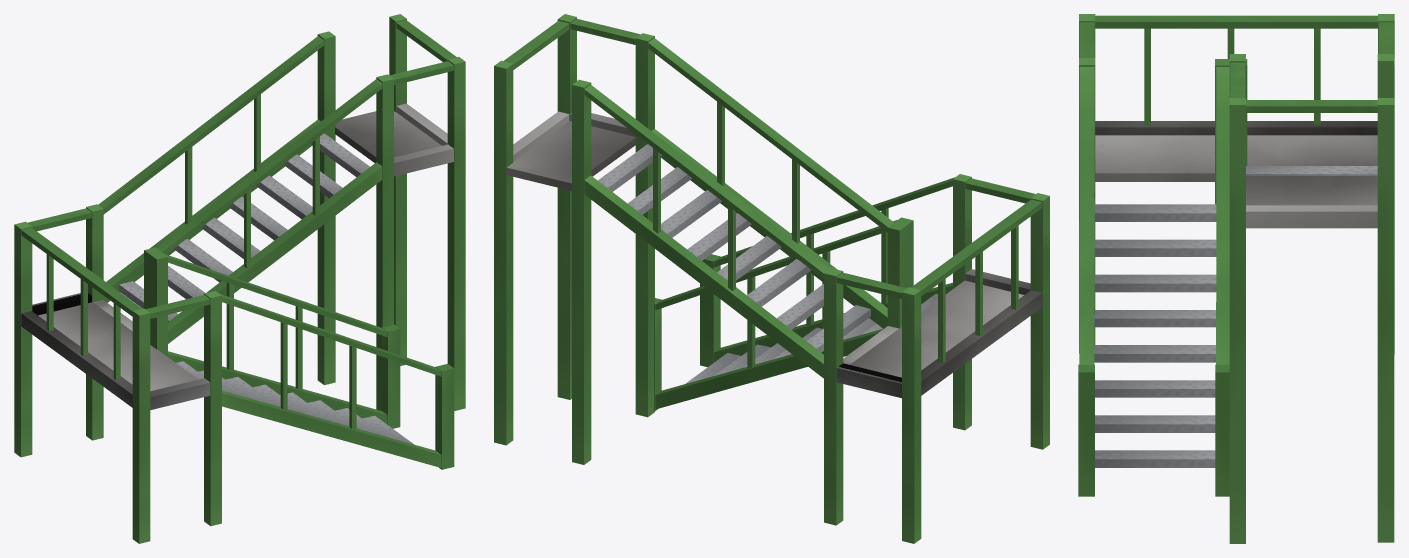
The model's file is escadaindustrial.fbx.
The picture shows the model from 3 angles, left to right: view 1: azimuth 30°, elevation 25°; view 2: azimuth 150°, elevation 25°; view 3: azimuth 270°, elevation 25°; orthographic projection. The views are drawn at different scales.
Visible parts, largest first — view 1: Cube.002; view 2: Cube.002; view 3: Cube.002.
Part boxes in pixels (<box>): Cube.002: <box>14,14,465,543</box>; Cube.002: <box>494,14,1049,543</box>; Cube.002: <box>1078,14,1394,543</box>.
Size of the model in its own units: 635 by 545 by 356.
